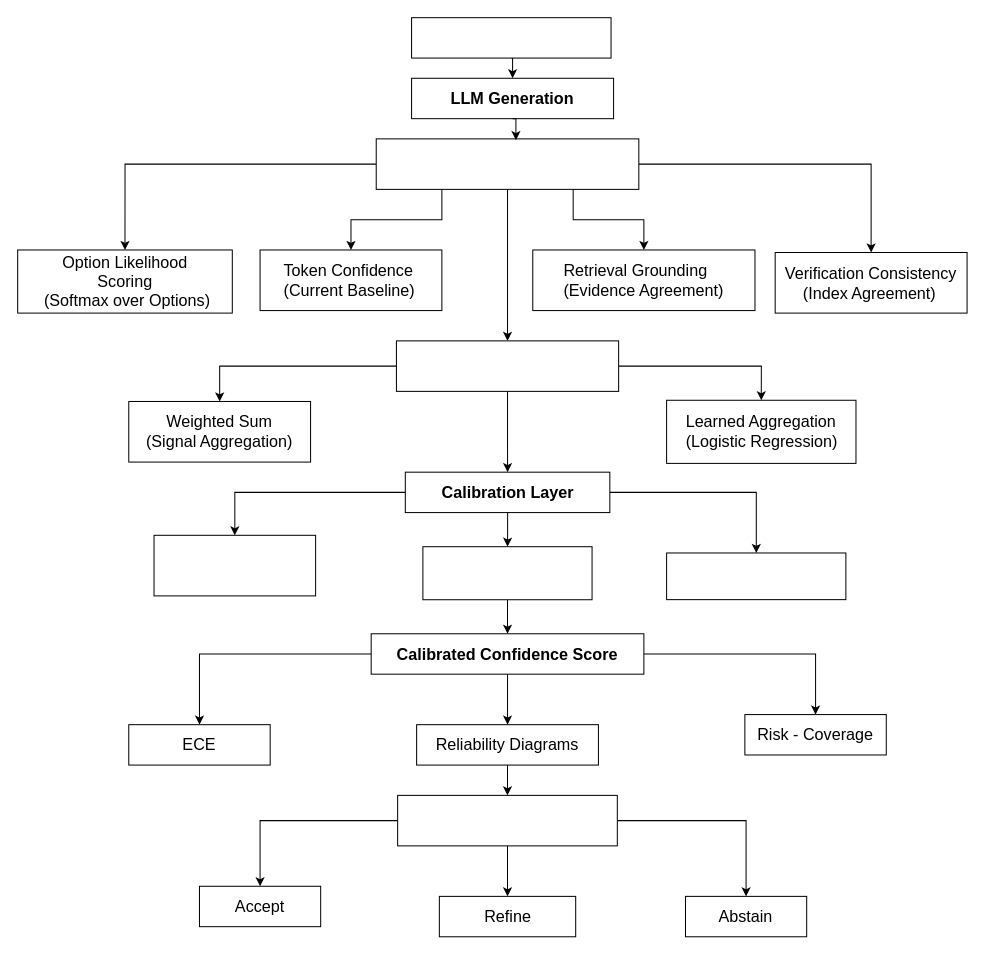
This 985x954 diagram has some shape labels left out. The box of each missing label's shape, as (x1, y1, x2, y2) in pixels:
Isotonic Regression: (666, 552, 846, 600)
Multi-Signal Confidence Aggregation: (395, 340, 619, 391)
Platt Scaling: (422, 546, 592, 600)
Reliability Signal Extraction: (375, 138, 639, 189)
Selective Prediction Framework: (397, 794, 617, 846)
Temperature Scaling: (153, 534, 316, 596)
User Query: (411, 17, 611, 58)
